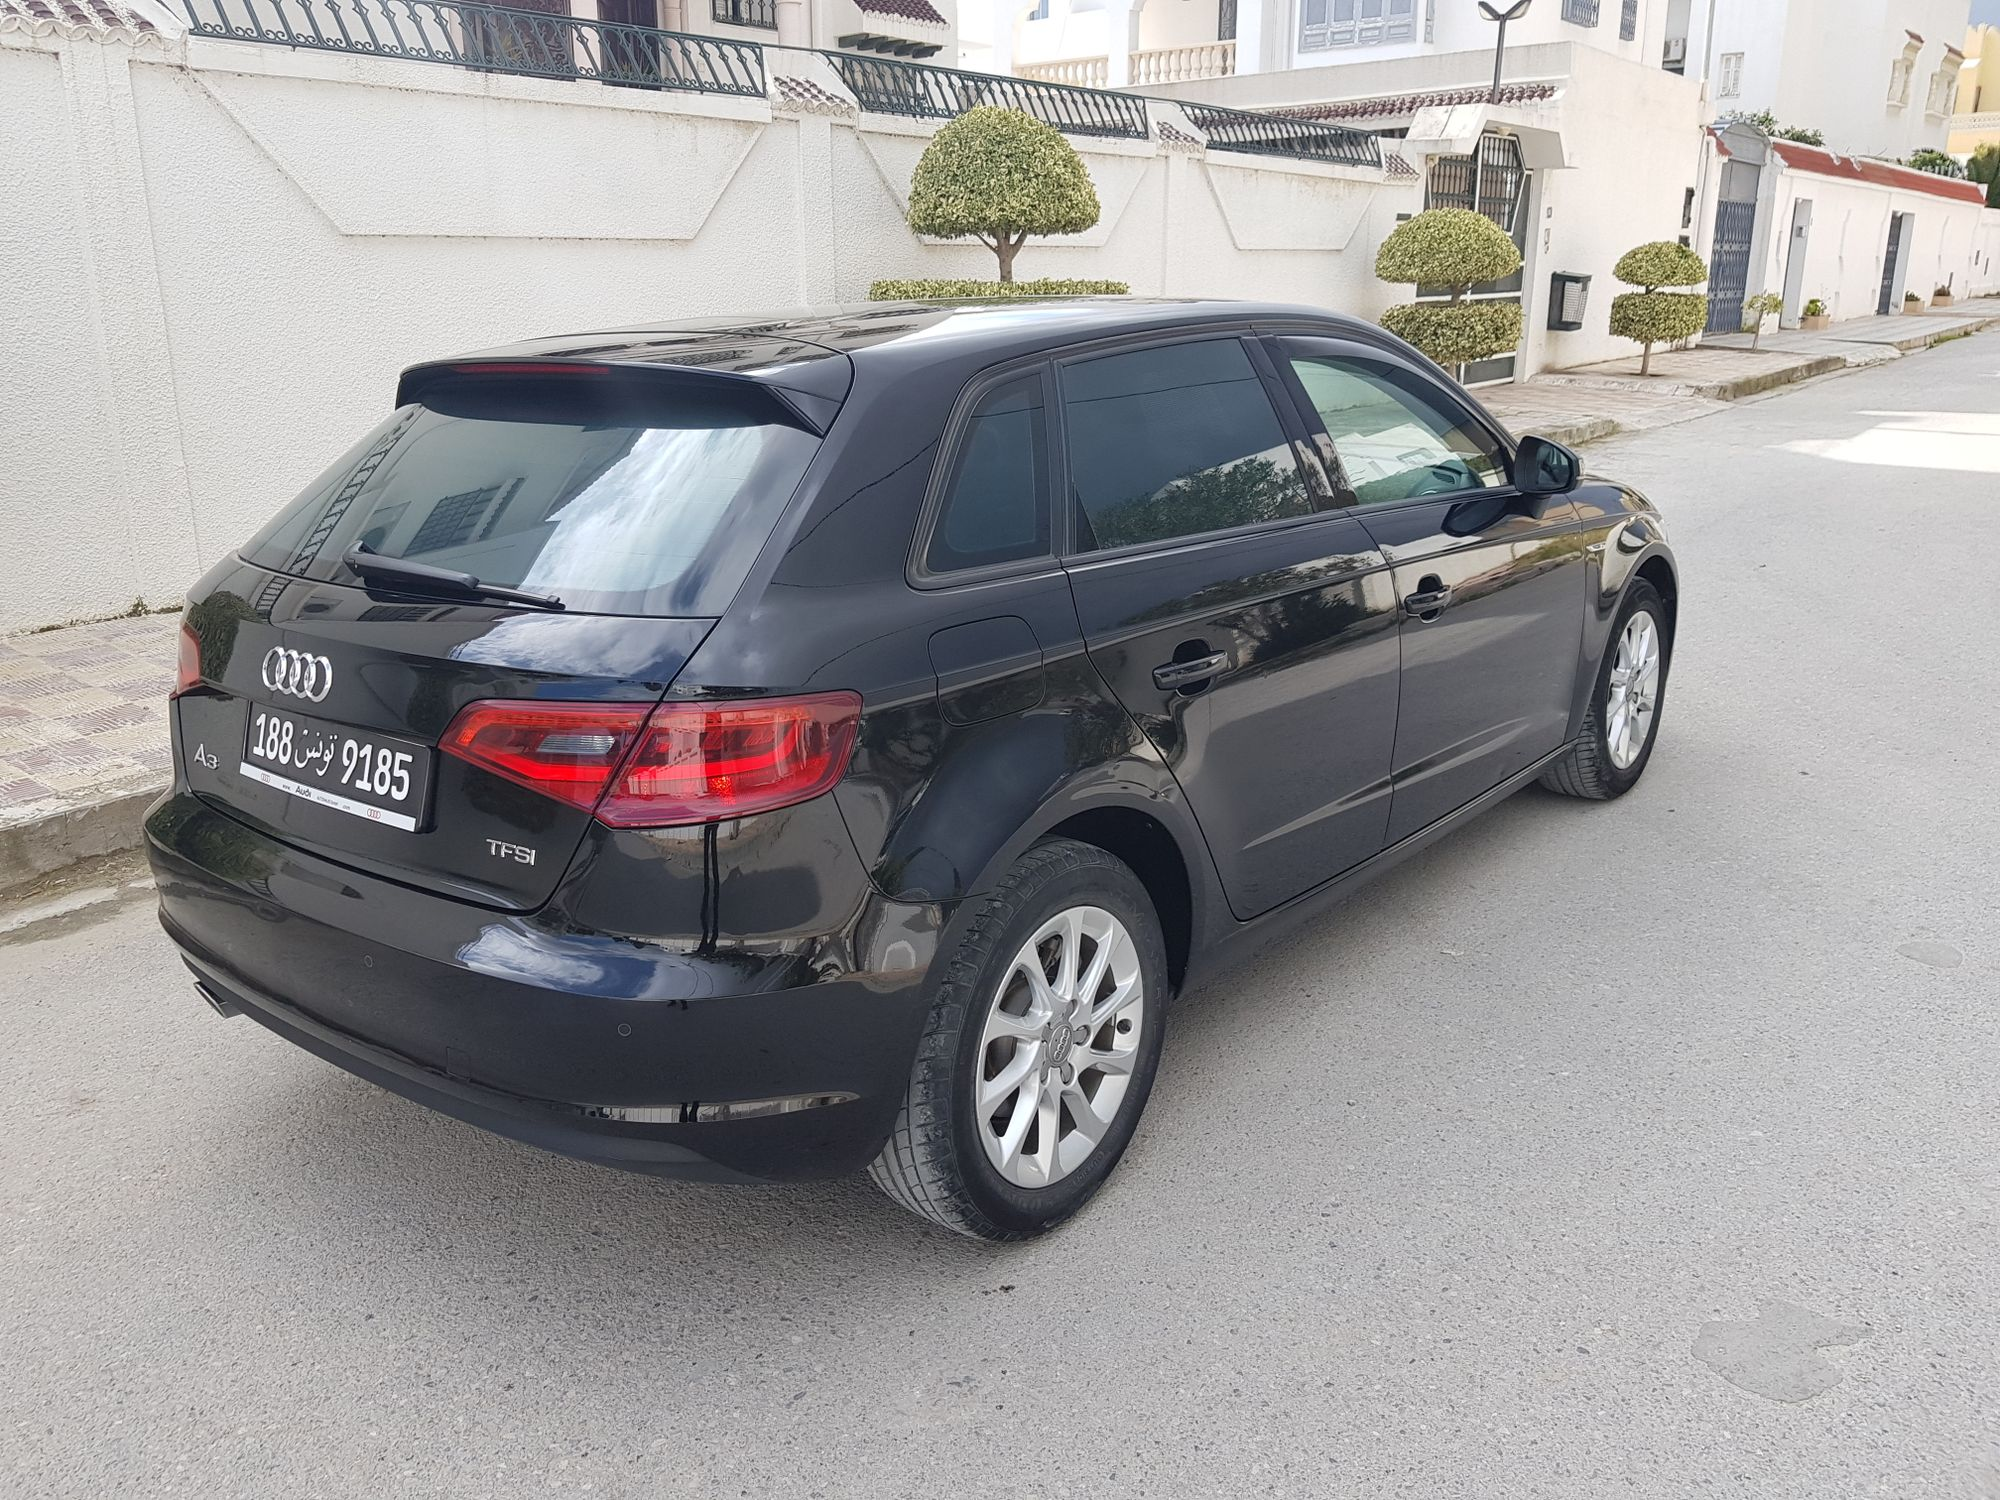LP: (241, 695, 429, 824)
